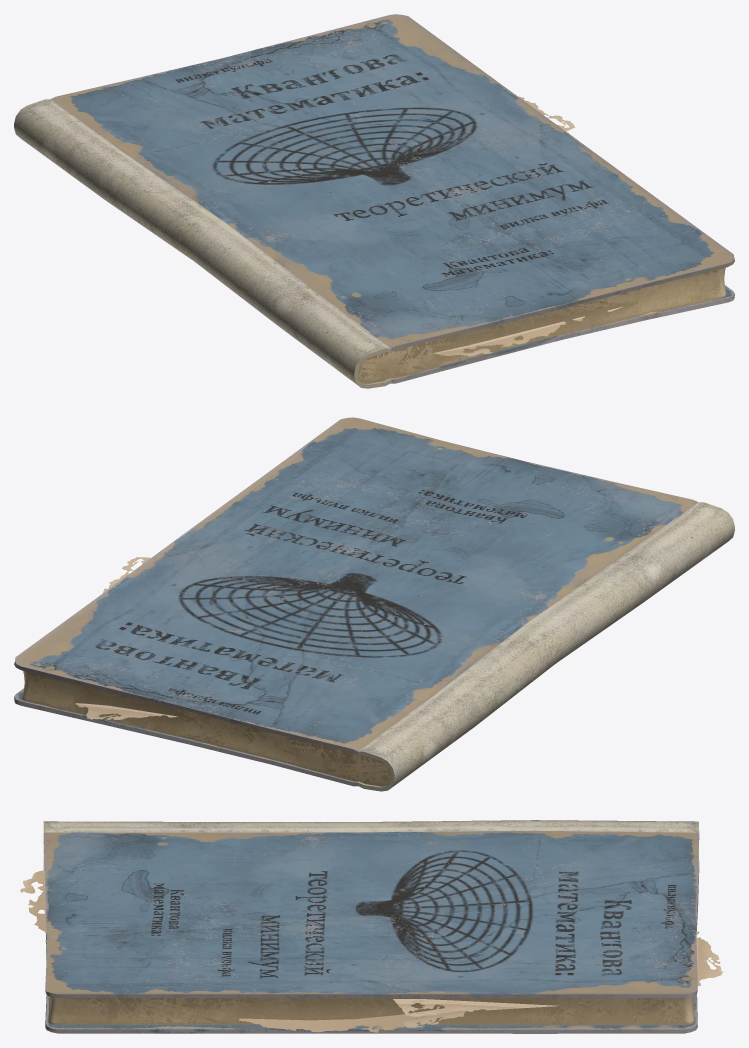
The model's file is book_quantum_mathematics.glb.
3 views of the same model, one above another, from view 1: azimuth 30°, elevation 25°; view 2: azimuth 150°, elevation 25°; view 3: azimuth 270°, elevation 25° (orthographic). The views are drawn at different scales.
Visible parts, largest first — view 1: Maths_Book_LP; view 2: Maths_Book_LP; view 3: Maths_Book_LP.
Part boxes in pixels (x1,y1,x2,y2): Maths_Book_LP: [14, 14, 734, 388]; Maths_Book_LP: [14, 417, 734, 791]; Maths_Book_LP: [20, 820, 723, 1033].
Size of the model in its own units: 2.21 by 0.2198 by 3.35.
Materials: 1 (1 with a texture image).
